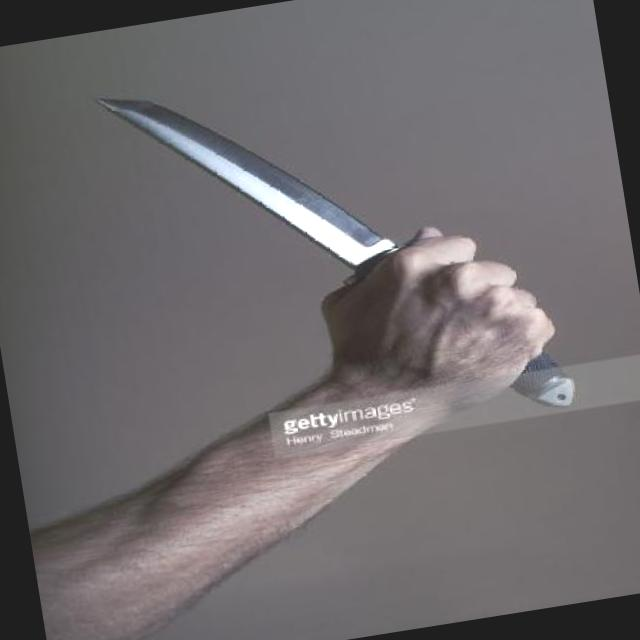knife: (80, 26, 568, 395)
